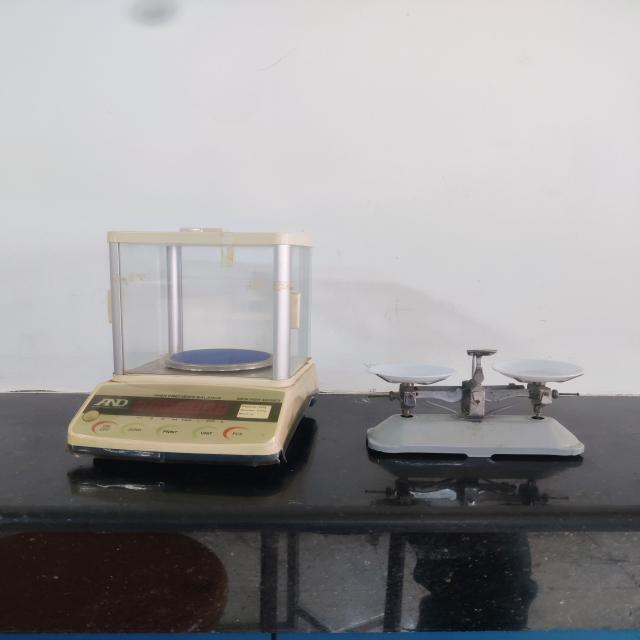Mechanical_Balance_Scale: (360, 338, 601, 486)
Precision_Weight_Scale: (54, 208, 329, 490)
